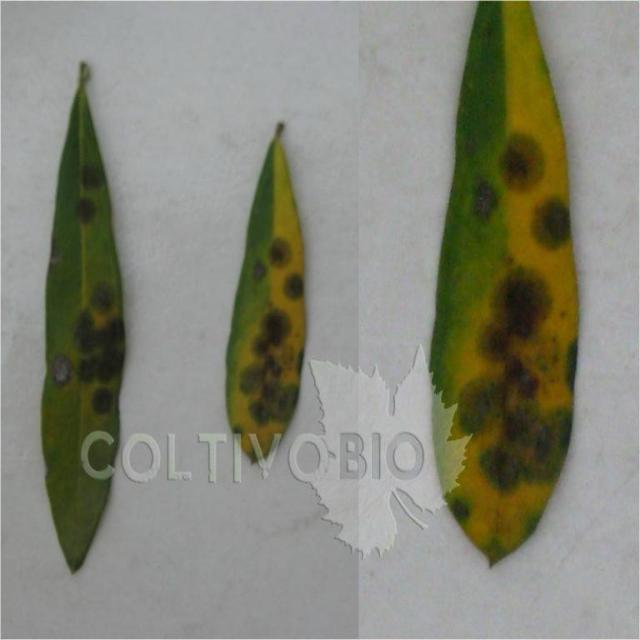Peacock Eye: (431, 0, 578, 564), (42, 62, 125, 573), (226, 122, 306, 471)
